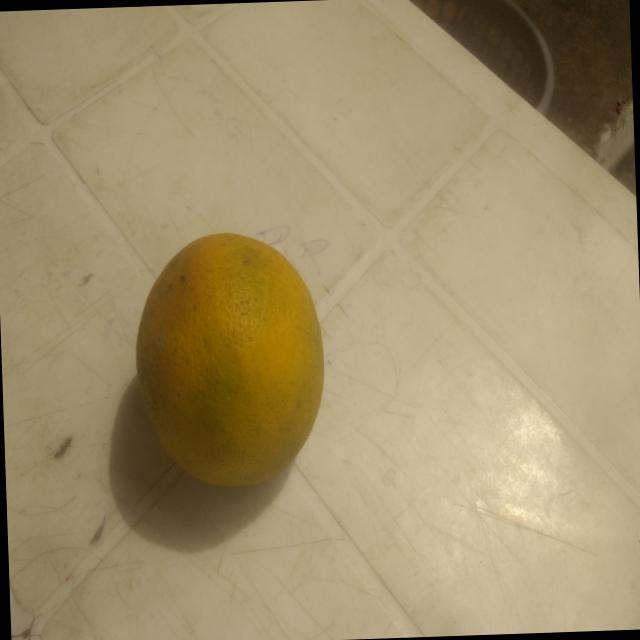Ripe orange: (109, 219, 342, 510)
